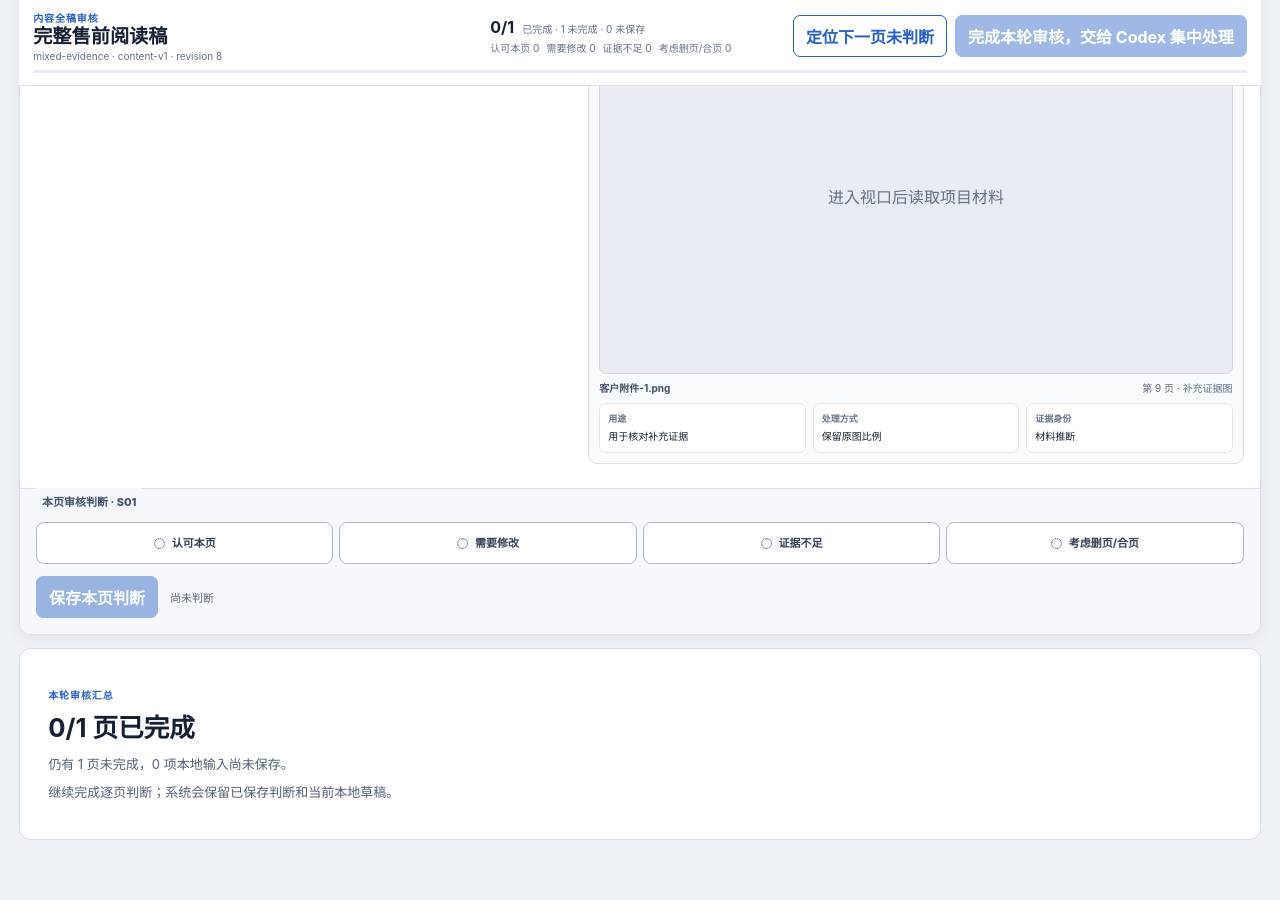
Test: ContentFullDeckReviewPage › rejects an invalid page-decision runtime result: non-increasing revision
(page scrolled)
Click the radio button labelled "认可本页" at (185, 544), box [36, 523, 334, 565]
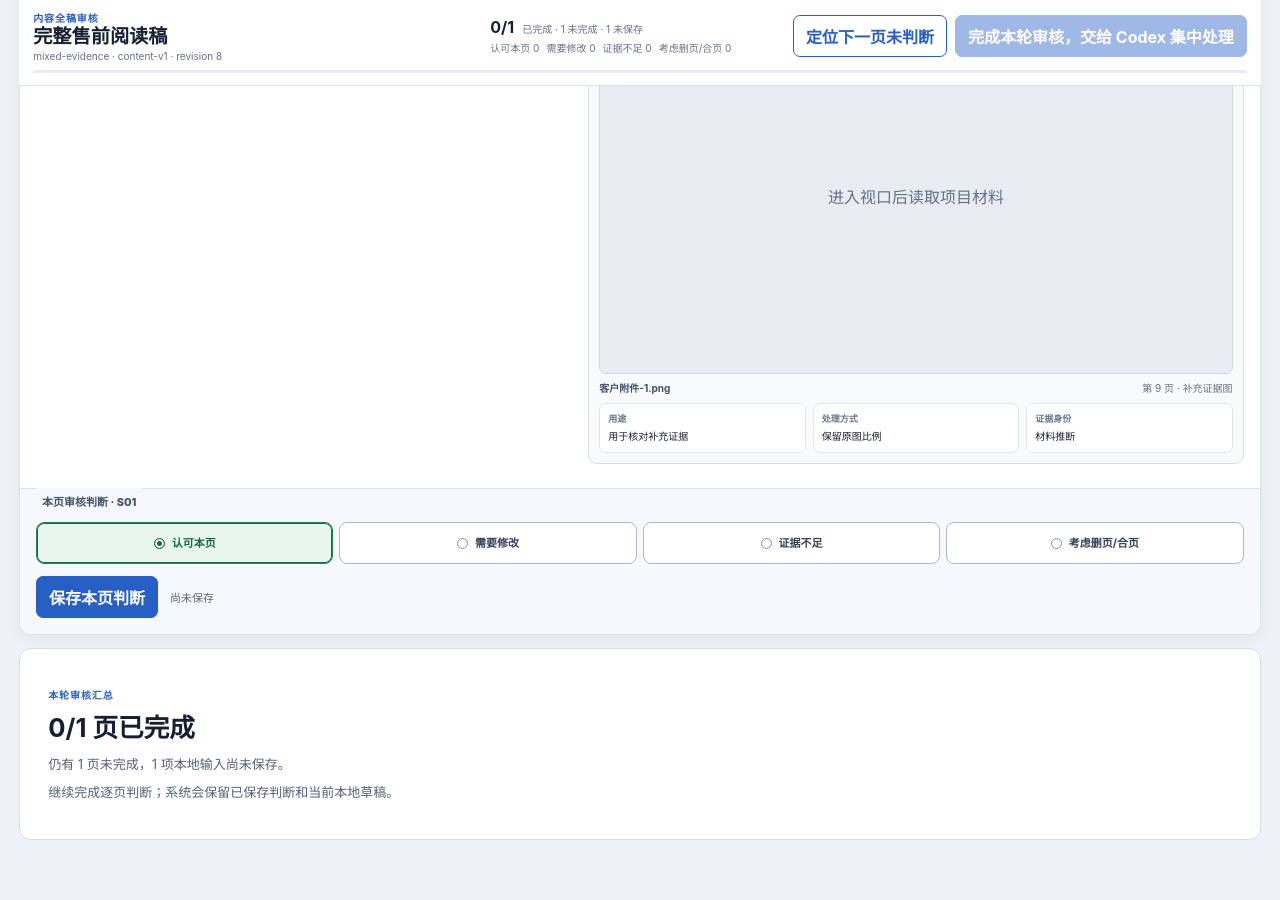
Click the button "保存本页判断" at (97, 598), box [36, 577, 158, 619]
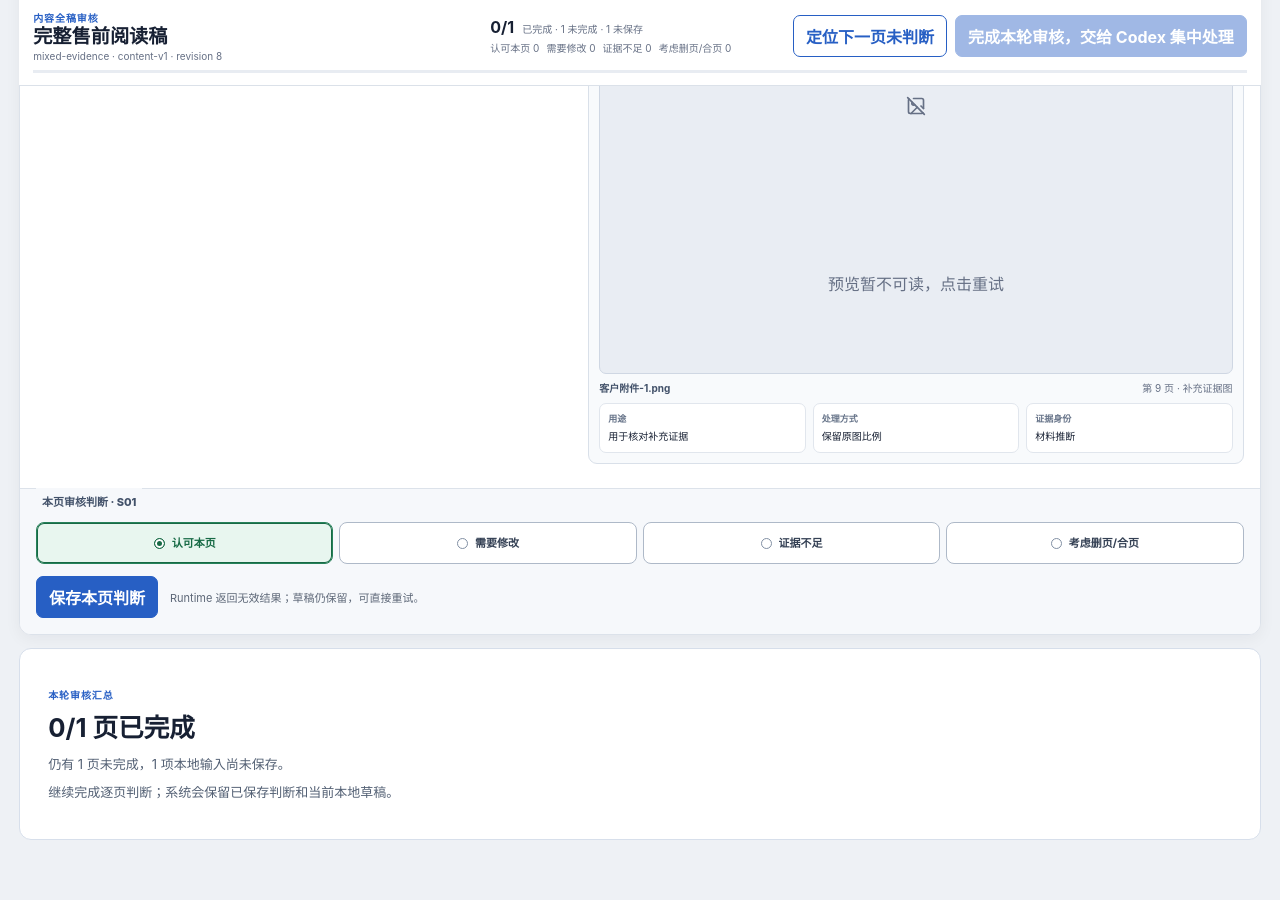
Expected: the radio button labelled "认可本页" is checked, [36, 523, 334, 565]
Expected: the button "保存本页判断" is enabled, [36, 577, 158, 619]
Expected: the text "Runtime 返回无效结果；草稿仍保留，可直接重试。" is shown, [170, 590, 425, 606]
